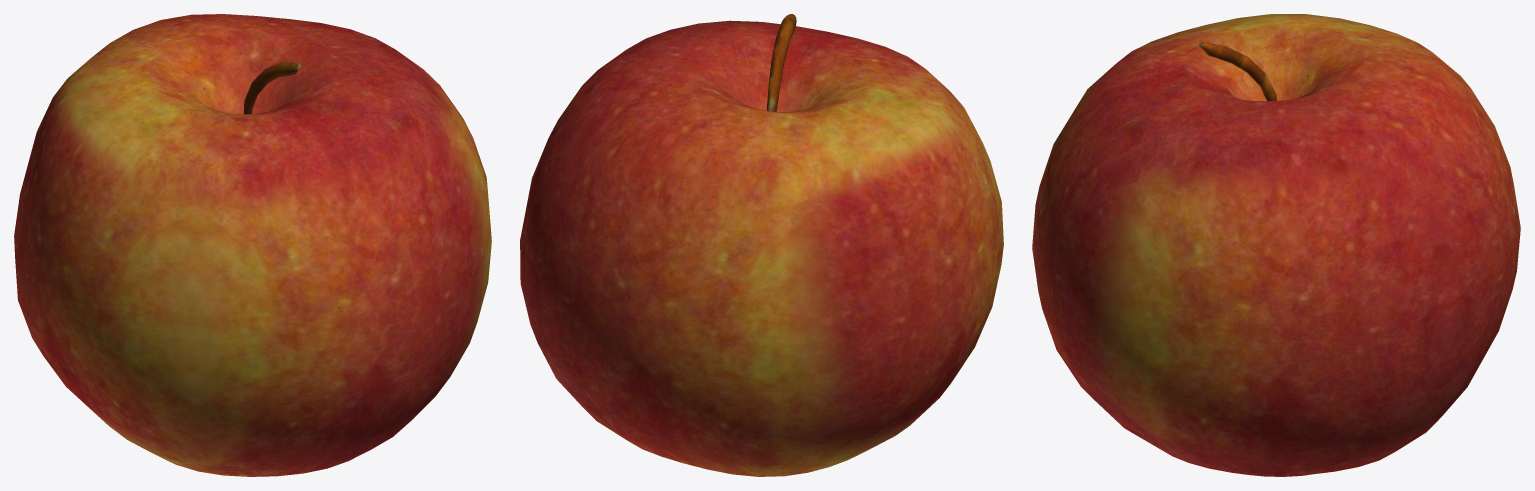
File: Apple_Base.fbx
3 renders of one model, left to right at view 1: azimuth 30°, elevation 25°; view 2: azimuth 150°, elevation 25°; view 3: azimuth 270°, elevation 25°, orthographic.
Visible parts, largest first — view 1: Sphere07, Cylinder05; view 2: Sphere07, Cylinder05; view 3: Sphere07, Cylinder05.
Boxes of the visible parts, x1,y1,x2,y2 form: Sphere07: [14, 14, 491, 476]; Cylinder05: [243, 62, 301, 114]; Sphere07: [520, 20, 1003, 476]; Cylinder05: [767, 14, 796, 111]; Sphere07: [1032, 14, 1520, 476]; Cylinder05: [1199, 42, 1277, 101].
Bounding box in the file's own units: 10.42 × 9.69 × 10.62.
